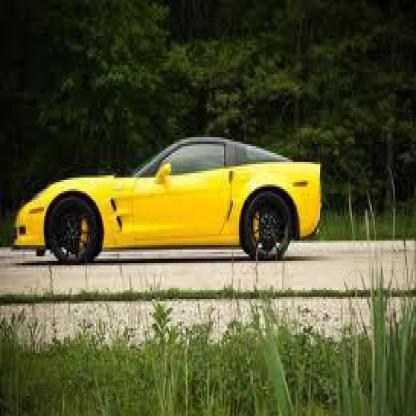Vehicle: (12, 126, 328, 272)
